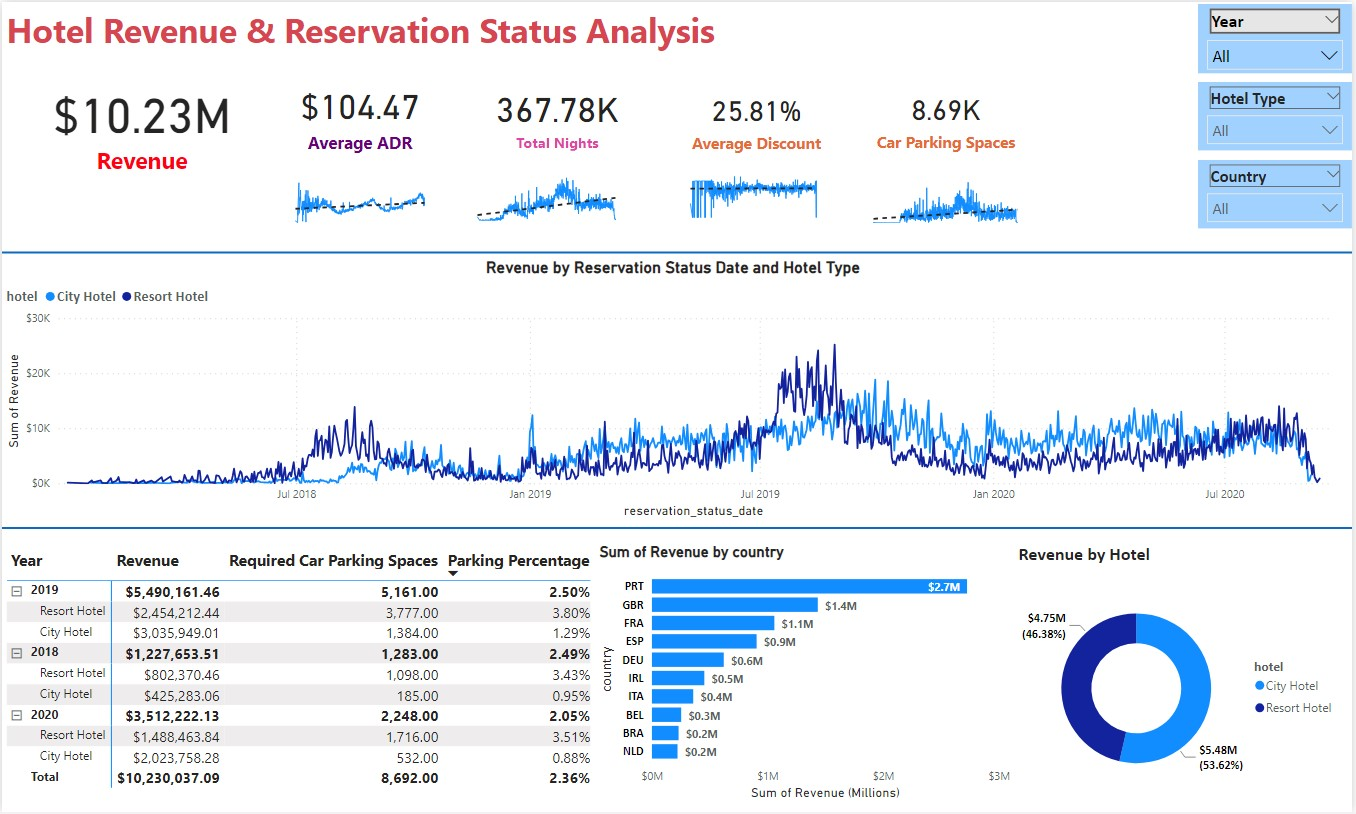

The dashboard page shown, as its layout file describes it:
{"tool":"powerbi","page":{"name":"Page 1","canvas":[1500,900],"ordinal":0},"visuals":[{"type":"shape","box":[0,272.2,1500,12.2],"z":0},{"type":"shape","box":[0,577.8,1500,13.3],"z":1000},{"type":"card","fields":{"Values":["Sum(Query1.Revenue)"]},"box":[30,78.9,251.1,113.3],"z":2000},{"type":"card","fields":{"Values":["Avg(Query1.adr)"]},"box":[293.3,75.6,208.9,100],"z":3000},{"type":"card","fields":{"Values":["Query1.Total Nights"]},"box":[513.3,82.2,207.8,87.8],"z":4000},{"type":"card","fields":{"Values":["Avg(Query1.Discount)"]},"box":[745.6,84.4,185.6,91.1],"z":5000},{"type":"lineChart","title":"Revenue by Reservation Status Date and Hotel Type","fields":{"Category":["Query1.reservation_status_date"],"Y":["Sum(Query1.Revenue)"],"Series":["Query1.hotel"]},"box":[0,284.4,1491.1,293.3],"z":6000},{"type":"slicer","fields":{"Values":["Query1.country"]},"box":[1328.9,175.6,171.1,75.6],"z":7000},{"type":"slicer","fields":{"Values":["Query1.hotel"]},"box":[1328.9,88.9,171.1,75.6],"z":8000},{"type":"lineChart","fields":{"Category":["Query1.reservation_status_date"],"Y":["Avg(Query1.adr)"]},"box":[311.1,176.7,173.3,74.4],"z":9000},{"type":"lineChart","fields":{"Category":["Query1.reservation_status_date"],"Y":["Query1.Total Nights"]},"box":[513.3,167.8,183.3,81.1],"z":10000},{"type":"lineChart","fields":{"Category":["Query1.reservation_status_date"],"Y":["Avg(Query1.Discount)"]},"box":[750,164.4,170,81.1],"z":11000},{"type":"card","fields":{"Values":["Sum(Query1.required_car_parking_spaces)"]},"box":[950,82.2,197.8,94.4],"z":12000},{"type":"lineChart","fields":{"Category":["Query1.reservation_status_date"],"Y":["Sum(Query1.required_car_parking_spaces)"]},"box":[953.3,170,190,81.1],"z":13000},{"type":"donutChart","title":"Revenue by Hotel","fields":{"Category":["Query1.hotel"],"Y":["Sum(Query1.Revenue)"]},"box":[1124.4,601.1,366.7,298.9],"z":14000},{"type":"pivotTable","fields":{"Rows":["Query1.reservation_status_date.Variation.Date Hierarchy.Year","Query1.hotel"],"Values":["Sum(Query1.Revenue)","Sum(Query1.required_car_parking_spaces)","Query1.Parking Percentage"]},"box":[0,601.1,658.9,321.1],"z":15000},{"type":"slicer","fields":{"Values":["Query1.reservation_status_date.Variation.Date Hierarchy.Year","Query1.reservation_status_date.Variation.Date Hierarchy.Quarter","Query1.reservation_status_date.Variation.Date Hierarchy.Month","Query1.reservation_status_date.Variation.Date Hierarchy.Day"]},"box":[1328.9,2.2,171.1,76.7],"z":16000},{"type":"textbox","box":[0,0,814.4,84.4],"z":17000},{"type":"barChart","fields":{"Y":["Sum(Query1.Revenue)"],"Category":["Query1.country"]},"box":[658.9,601.1,465.6,290],"z":18000}]}

Visuals, with their boxes in screenshot pixels (x1, y1, x2, y2), scaled from the page's 1500x900 canvas onto the 1356x814 screenshot:
shape: box(0, 246, 1355, 257)
shape: box(0, 523, 1355, 535)
card - Sum(Query1.Revenue): box(27, 71, 254, 174)
card - Avg(Query1.adr): box(265, 68, 454, 159)
card - Query1.Total Nights: box(464, 74, 652, 154)
card - Avg(Query1.Discount): box(674, 76, 842, 159)
"Revenue by Reservation Status Date and Hotel Type" lineChart: box(0, 257, 1348, 522)
slicer - Query1.country: box(1201, 159, 1355, 227)
slicer - Query1.hotel: box(1201, 80, 1355, 149)
lineChart - Query1.reservation_status_date x Avg(Query1.adr): box(281, 160, 438, 227)
lineChart - Query1.reservation_status_date x Query1.Total Nights: box(464, 152, 630, 225)
lineChart - Query1.reservation_status_date x Avg(Query1.Discount): box(678, 149, 832, 222)
card - Sum(Query1.required_car_parking_spaces): box(859, 74, 1038, 160)
lineChart - Query1.reservation_status_date x Sum(Query1.required_car_parking_spaces): box(862, 154, 1034, 227)
"Revenue by Hotel" donutChart: box(1016, 544, 1348, 813)
pivotTable - Query1.reservation_status_date.Variation.Date Hierarchy.Year x Query1.hotel: box(0, 544, 596, 813)
slicer - Query1.reservation_status_date.Variation.Date Hierarchy.Year x Query1.reservation_status_date.Variation.Date Hierarchy.Quarter: box(1201, 2, 1355, 71)
textbox: box(0, 0, 736, 76)
barChart - Sum(Query1.Revenue) x Query1.country: box(596, 544, 1017, 806)
